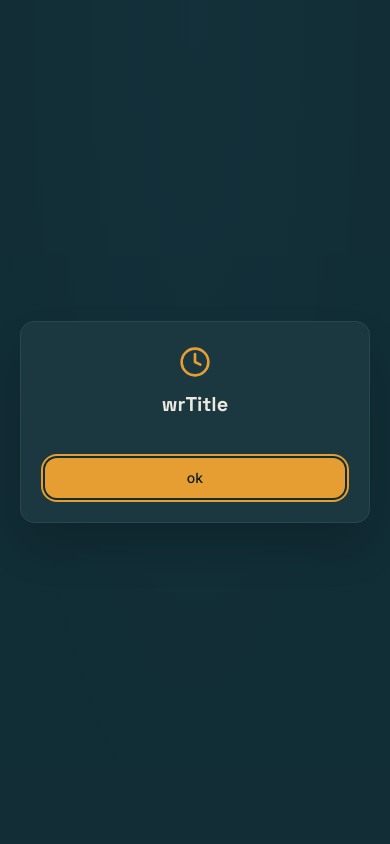
waiting-room return notice › keeps the notice until successful acknowledgement, retrying after a network failure
Click the button at coordinates (195, 478), box [45,458,345,498]
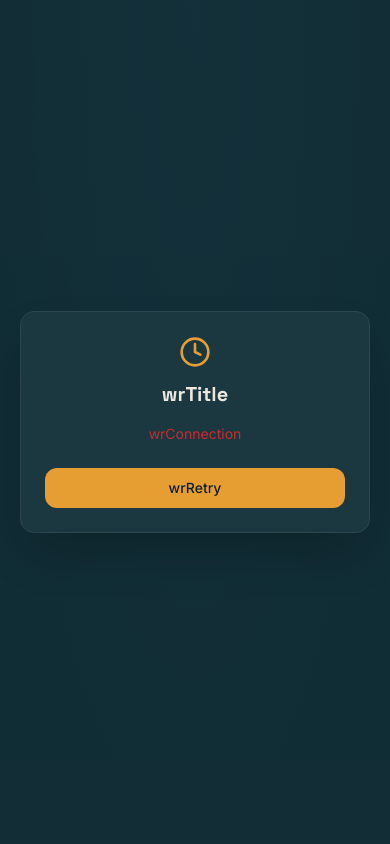
Expected: the dialog is shown, [20,311,370,533]
Result: the message "wrConnection" is shown at [149,425,241,442]
Click the button at coordinates (195, 488), box [45,468,345,508]
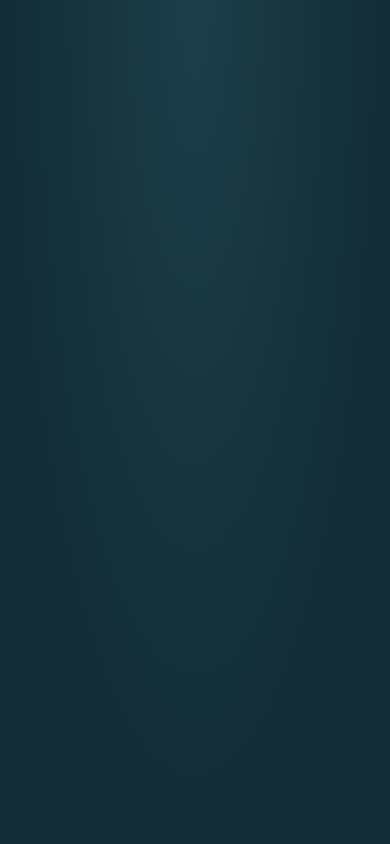
Result: the dialog is gone
